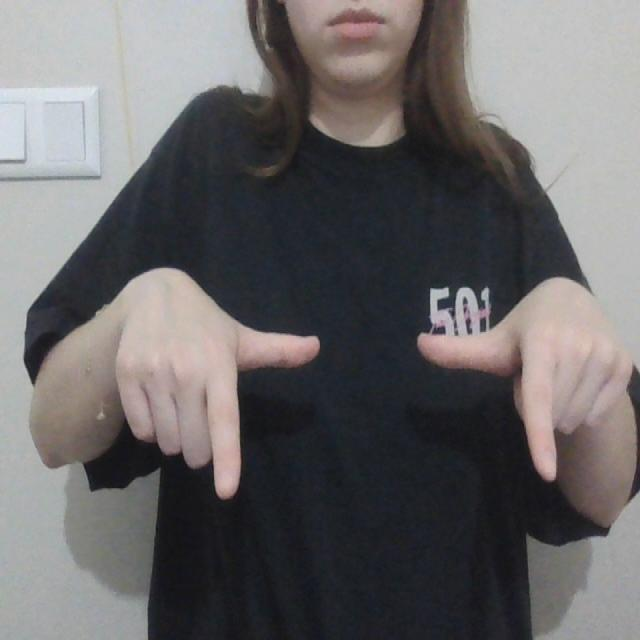Nerede: (189, 288, 565, 508)
